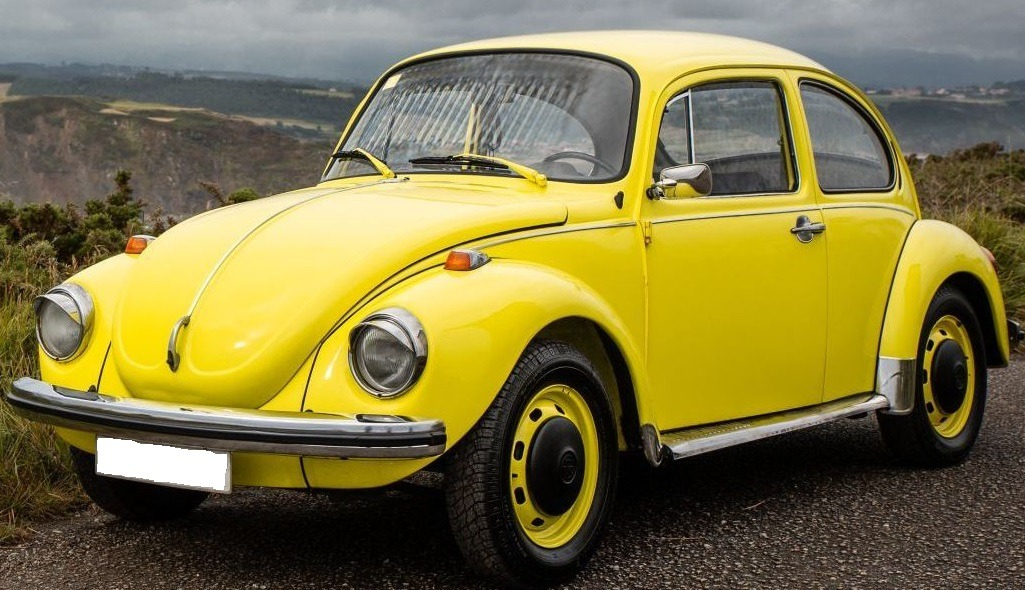car: (31, 30, 1014, 572)
